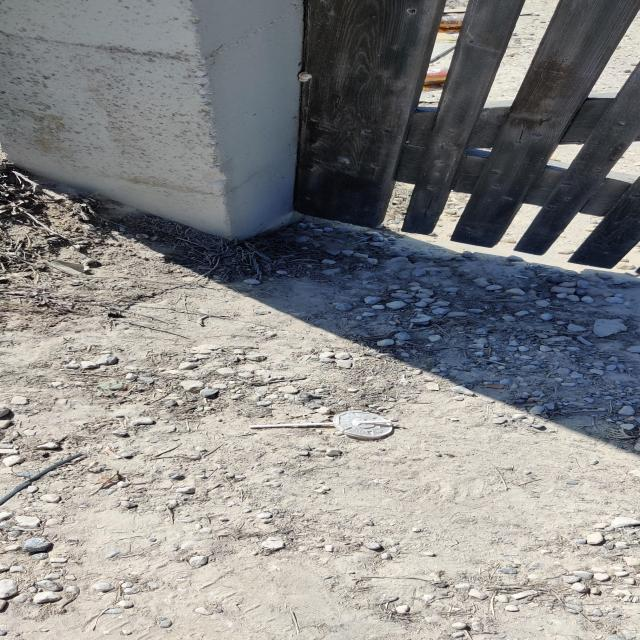litter: (318, 399, 423, 443)
